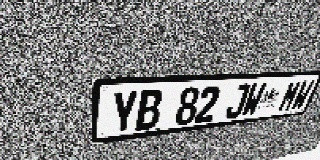2: (194, 85, 222, 123)
8: (174, 86, 202, 126)
B: (135, 89, 164, 131)
J: (224, 84, 251, 119)
M: (277, 81, 303, 112)
W: (240, 83, 267, 117), (289, 80, 315, 111)
Y: (110, 90, 139, 134)
